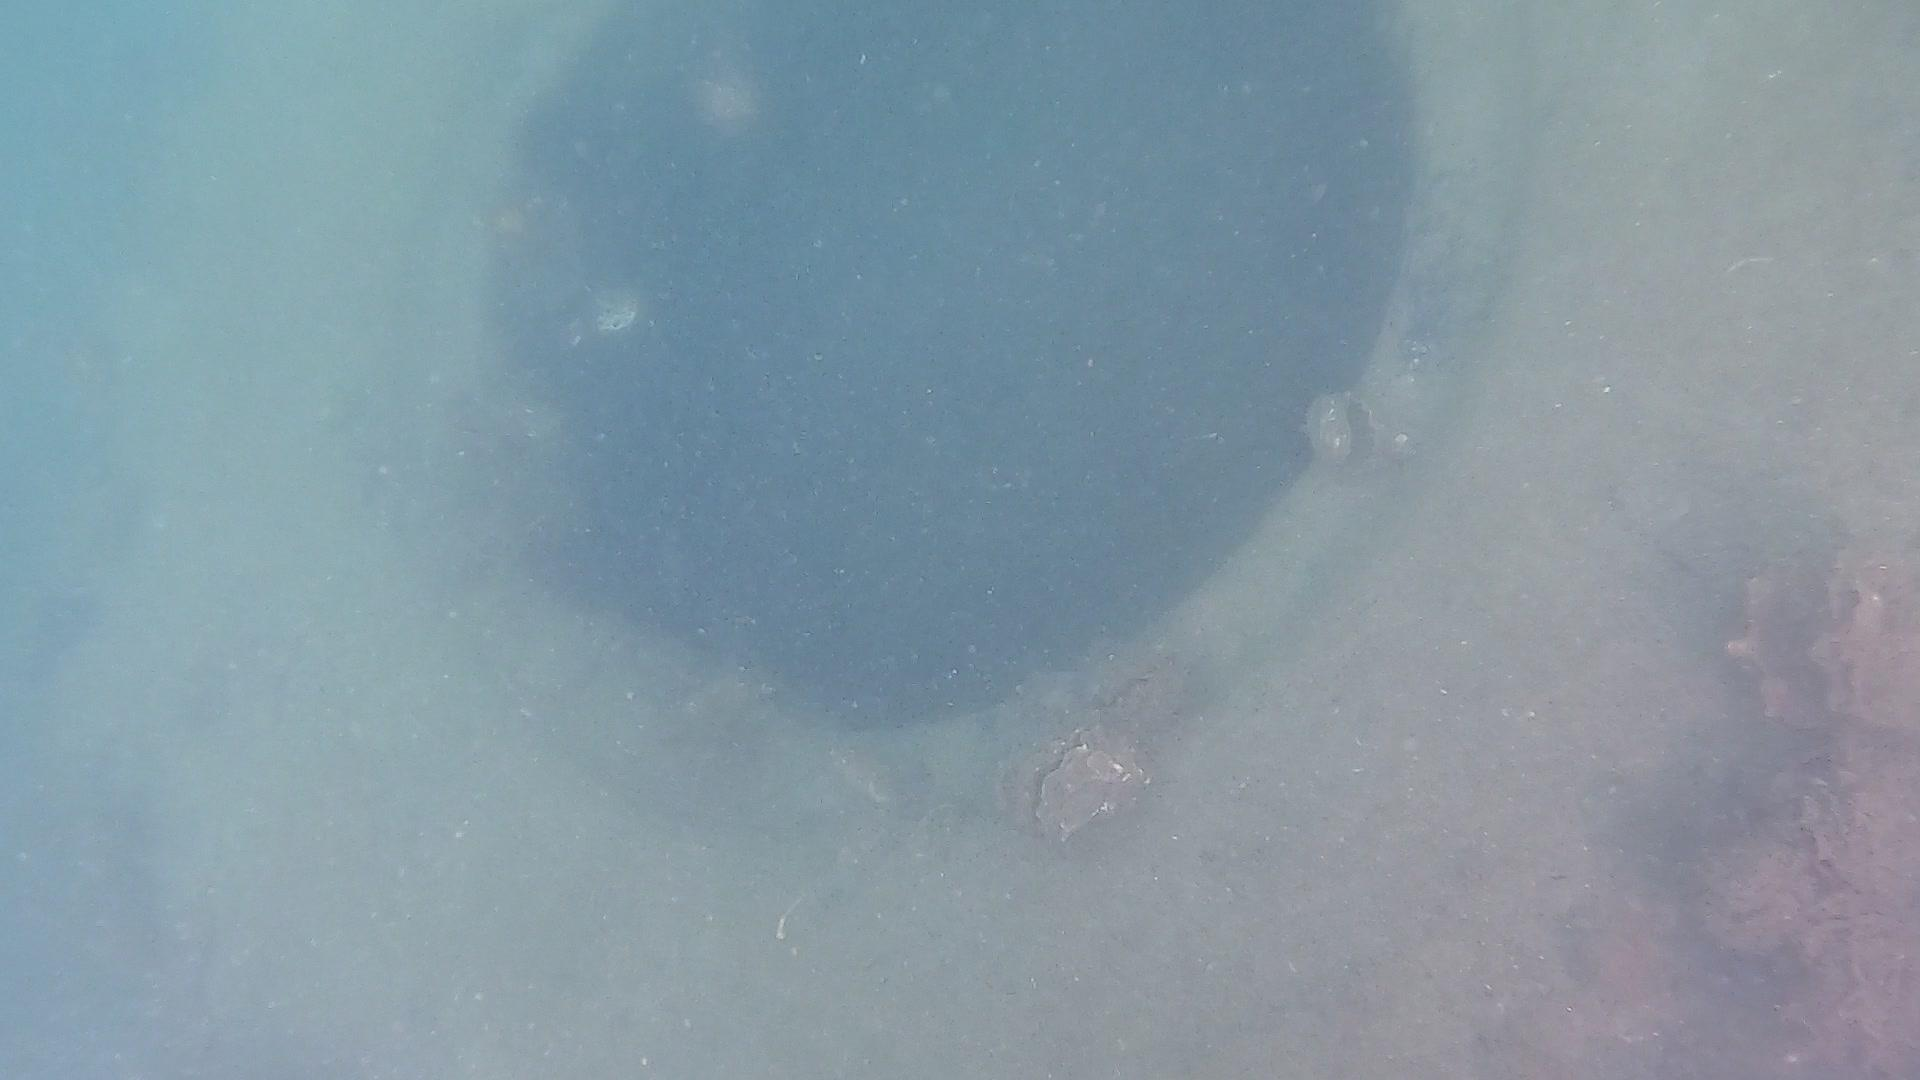tire: (55, 0, 1920, 1080)
